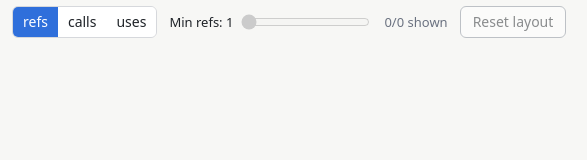
it: map controls › exposes metric selection and the slider value
Click the button "calls" at (82, 22), box [58,7,106,37]
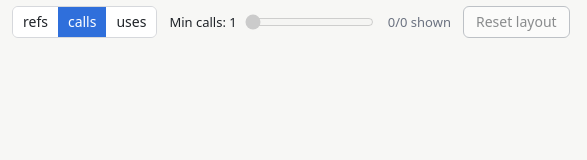
expect the slider named "Minimum calls per connection" is shown: met, box [245,14,374,30]
